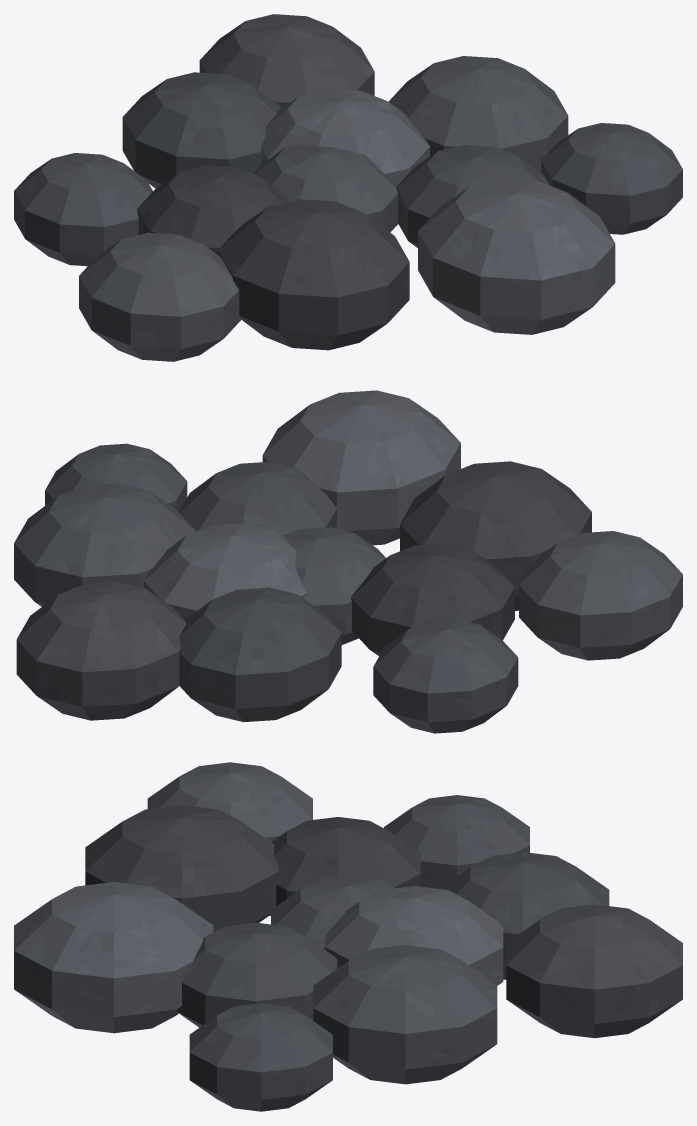
File: material_gravel.glb
3 renders of one model, top to bottom at view 1: azimuth 30°, elevation 25°; view 2: azimuth 150°, elevation 25°; view 3: azimuth 270°, elevation 25°, orthographic.
Parts seen in each view (by area): view 1: block_grain 8, block_grain 5, block_grain 10, block_grain 6, block_grain 4, block_grain 7, block_grain 11, block_grain 9, block_grain 1, block_grain 2, block_grain 0, block_grain 3; view 2: block_grain 9, block_grain 8, block_grain 4, block_grain 10, block_grain 5, block_grain 6, block_grain 7, block_grain 2, block_grain 1, block_grain 3, block_grain 0, block_grain 11; view 3: block_grain 8, block_grain 6, block_grain 9, block_grain 5, block_grain 11, block_grain 3, block_grain 1, block_grain 2, block_grain 4, block_grain 7, block_grain 10, block_grain 0.
Part boxes in pixels (bbox=[...]): block_grain 8: bbox=[418, 179, 615, 334]; block_grain 5: bbox=[218, 199, 409, 350]; block_grain 10: bbox=[79, 232, 241, 361]; block_grain 6: bbox=[388, 56, 568, 173]; block_grain 4: bbox=[122, 72, 280, 188]; block_grain 7: bbox=[14, 153, 152, 266]; block_grain 11: bbox=[541, 123, 682, 234]; block_grain 9: bbox=[199, 14, 374, 108]; block_grain 1: bbox=[261, 88, 429, 185]; block_grain 2: bbox=[137, 165, 287, 254]; block_grain 0: bbox=[253, 144, 397, 232]; block_grain 3: bbox=[396, 145, 549, 247]; block_grain 9: bbox=[16, 582, 186, 720]; block_grain 8: bbox=[262, 390, 460, 545]; block_grain 4: bbox=[179, 587, 341, 722]; block_grain 10: bbox=[519, 531, 682, 660]; block_grain 5: bbox=[400, 461, 591, 610]; block_grain 6: bbox=[14, 483, 196, 606]; block_grain 7: bbox=[373, 619, 518, 733]; block_grain 2: bbox=[351, 543, 514, 655]; block_grain 1: bbox=[144, 523, 307, 619]; block_grain 3: bbox=[179, 461, 336, 535]; block_grain 0: bbox=[283, 527, 385, 644]; block_grain 11: bbox=[45, 443, 187, 511]; block_grain 8: bbox=[14, 882, 213, 1033]; block_grain 6: bbox=[313, 945, 497, 1084]; block_grain 9: bbox=[506, 904, 682, 1038]; block_grain 5: bbox=[85, 805, 278, 931]; block_grain 11: bbox=[189, 1003, 332, 1111]; block_grain 3: bbox=[176, 922, 337, 1027]; block_grain 1: bbox=[325, 886, 503, 985]; block_grain 2: bbox=[270, 817, 420, 915]; block_grain 4: bbox=[439, 852, 609, 979]; block_grain 7: bbox=[384, 795, 529, 888]; block_grain 10: bbox=[147, 762, 312, 841]; block_grain 0: bbox=[271, 875, 394, 949].
Bounding box in the file's own units: 0.031 × 0.00629 × 0.0304.
Materials: 1 (1 with a texture image).
